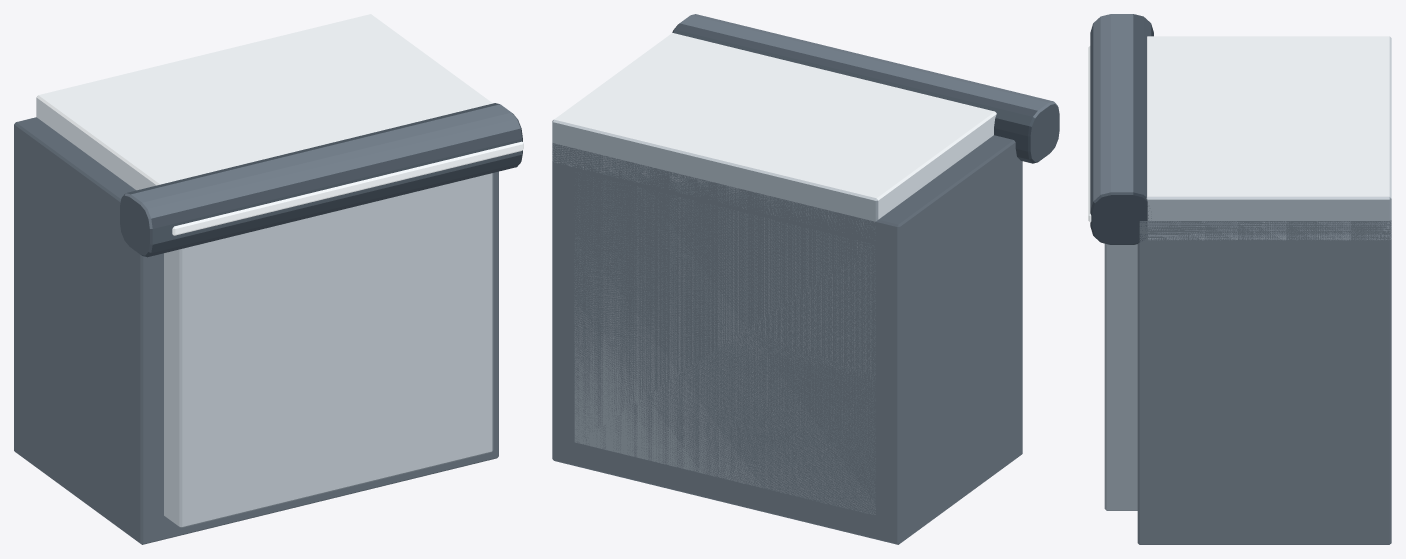
The model's file is Terrain_TopRun1L.gltf.
The picture shows the model from 3 angles, left to right: view 1: azimuth 30°, elevation 25°; view 2: azimuth 150°, elevation 25°; view 3: azimuth 270°, elevation 25°; orthographic projection. The views are drawn at different scales.
Parts seen in each view (by area): view 1: Terrain_TopRun1L_baked; view 2: Terrain_TopRun1L_baked; view 3: Terrain_TopRun1L_baked.
Boxes of the visible parts, box(x1,y1,x2,y2) form: Terrain_TopRun1L_baked: box(14, 14, 523, 544); Terrain_TopRun1L_baked: box(552, 14, 1059, 544); Terrain_TopRun1L_baked: box(1088, 14, 1391, 544).
Bounding box in the file's own units: 1.04 × 0.9495 × 0.74.
